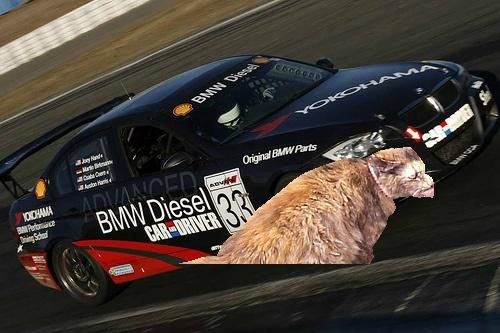tampered: (176, 148, 434, 264)
